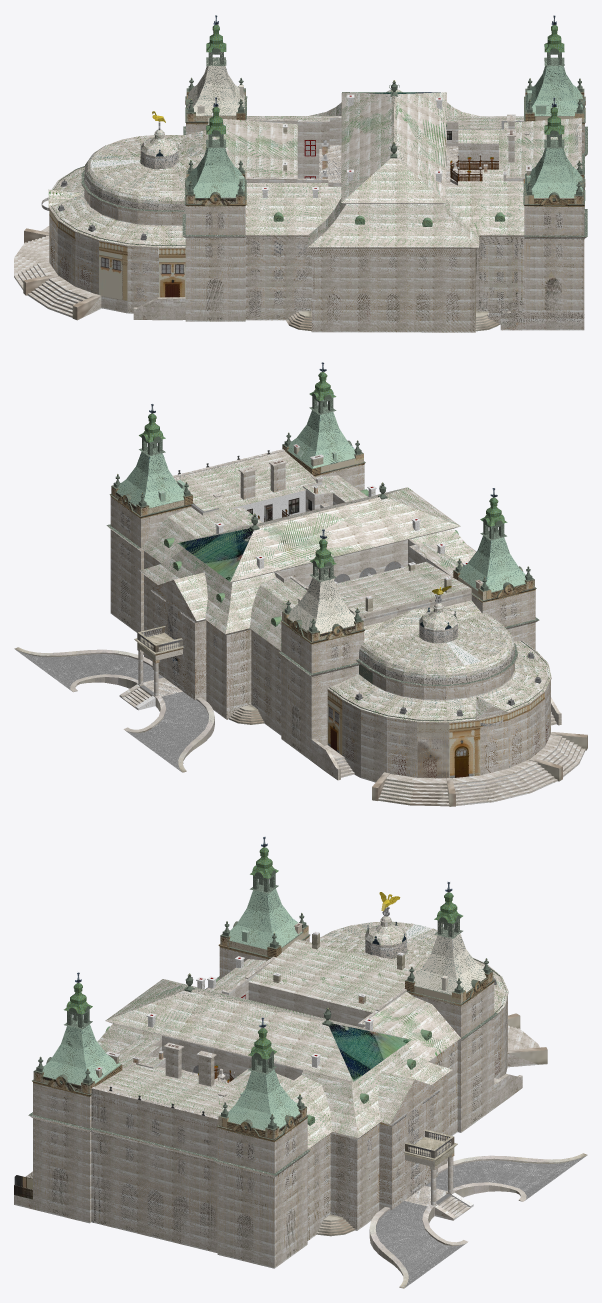
The model's file is reduta.glb.
3 renders of one model, top to bottom at view 1: azimuth 30°, elevation 25°; view 2: azimuth 150°, elevation 25°; view 3: azimuth 270°, elevation 25°, orthographic. The views are drawn at different scales.
Parts seen in each view (by area): view 1: material_8_5, material_7, strecha-koncertnej-sály_123, juh-stred1, Color_G25, priečelie-stena-veže_25, material_1, strecha_zelená_1_divadlo, bočný-vchod-juh-vľavo, časť-vchodového-priečelia-2xO, material_8, strecha-koncertnej-sály (+17 smaller); view 2: material_8_5, material_7, strecha-koncertnej-sály_123, material_2, Color_G25, material_1, časť-vchodového-priečelia-2xO_D_Sh, časť-vchodového-priečelia-Do_So, strecha-koncertnej-sály, material_8, strecha_zelená_1_divadlo, Stone_Vein_Gray (+14 smaller); view 3: material_8_5, material_7, strecha-koncertnej-sály_123, material_2, východ-stred, Color_G25, material_1, Stone_Vein_Gray, strecha-koncertnej-sály_78, priečelie-stena-veže_25, priečelie-stena-veže_122, priečelie-stena-veže (+12 smaller).
Part boxes in pixels (bbox=[...]): material_8_5: bbox=[14, 89, 587, 332]; material_7: bbox=[154, 52, 582, 197]; strecha-koncertnej-sály_123: bbox=[208, 92, 523, 247]; juh-stred1: bbox=[311, 249, 475, 332]; Color_G25: bbox=[51, 45, 587, 245]; priečelie-stena-veže_25: bbox=[185, 206, 584, 321]; material_1: bbox=[187, 52, 523, 180]; strecha_zelená_1_divadlo: bbox=[48, 25, 564, 205]; bočný-vchod-juh-vľavo: bbox=[245, 236, 311, 320]; časť-vchodového-priečelia-2xO: bbox=[99, 241, 127, 300]; material_8: bbox=[23, 140, 531, 331]; strecha-koncertnej-sály: bbox=[341, 92, 393, 201]; material_8_5: bbox=[14, 449, 585, 805]; material_7: bbox=[117, 371, 525, 608]; strecha-koncertnej-sály_123: bbox=[141, 476, 473, 646]; material_2: bbox=[15, 649, 208, 771]; Color_G25: bbox=[106, 393, 548, 720]; material_1: bbox=[193, 462, 471, 633]; časť-vchodového-priečelia-2xO_D_Sh: bbox=[327, 682, 550, 778]; časť-vchodového-priečelia-Do_So: bbox=[449, 704, 529, 778]; strecha-koncertnej-sály: bbox=[231, 499, 458, 581]; material_8: bbox=[311, 455, 587, 806]; strecha_zelená_1_divadlo: bbox=[139, 372, 514, 716]; Stone_Vein_Gray: bbox=[15, 648, 214, 772]; material_8_5: bbox=[14, 916, 587, 1288]; material_7: bbox=[42, 874, 390, 1129]; strecha-koncertnej-sály_123: bbox=[98, 940, 459, 1148]; material_2: bbox=[376, 1155, 586, 1287]; východ-stred: bbox=[91, 1089, 217, 1250]; Color_G25: bbox=[28, 870, 506, 1175]; material_1: bbox=[133, 920, 486, 1169]; Stone_Vein_Gray: bbox=[369, 1154, 585, 1287]; strecha-koncertnej-sály_78: bbox=[108, 991, 352, 1080]; priečelie-stena-veže_25: bbox=[274, 984, 494, 1262]; priečelie-stena-veže_122: bbox=[217, 1129, 274, 1266]; priečelie-stena-veže: bbox=[33, 1086, 89, 1220].
Size of the model in its own units: 77.29 by 29.05 by 65.01.
262 materials, 243 textured.
